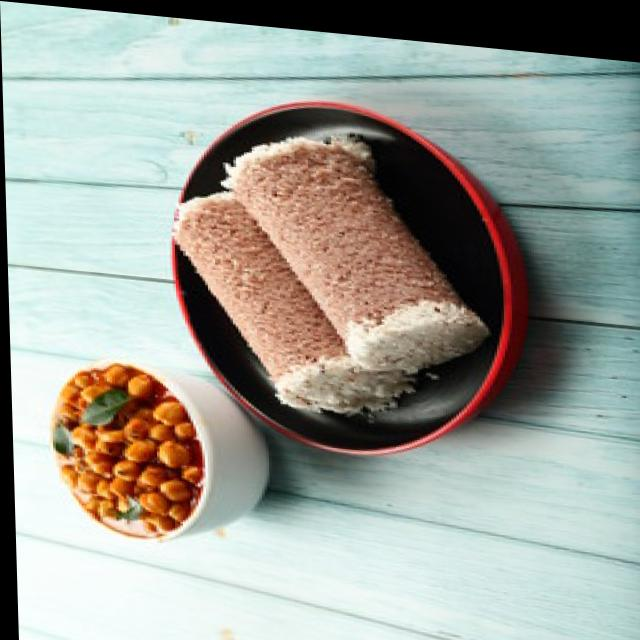CURRY: (58, 364, 207, 536)
PUTTU: (170, 133, 492, 411)
